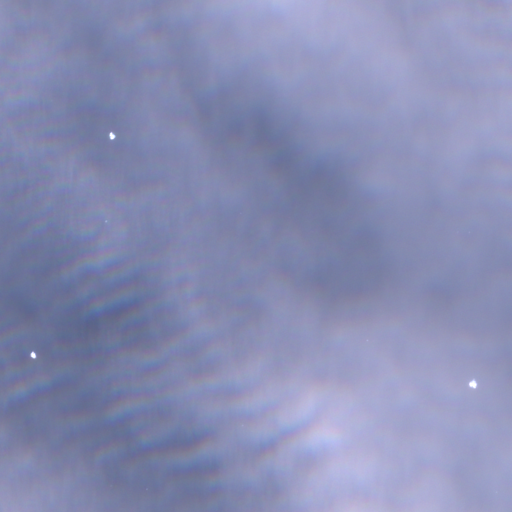Iceberg: (469, 380, 476, 388), (109, 132, 115, 139), (30, 351, 35, 358), (105, 220, 106, 221)
